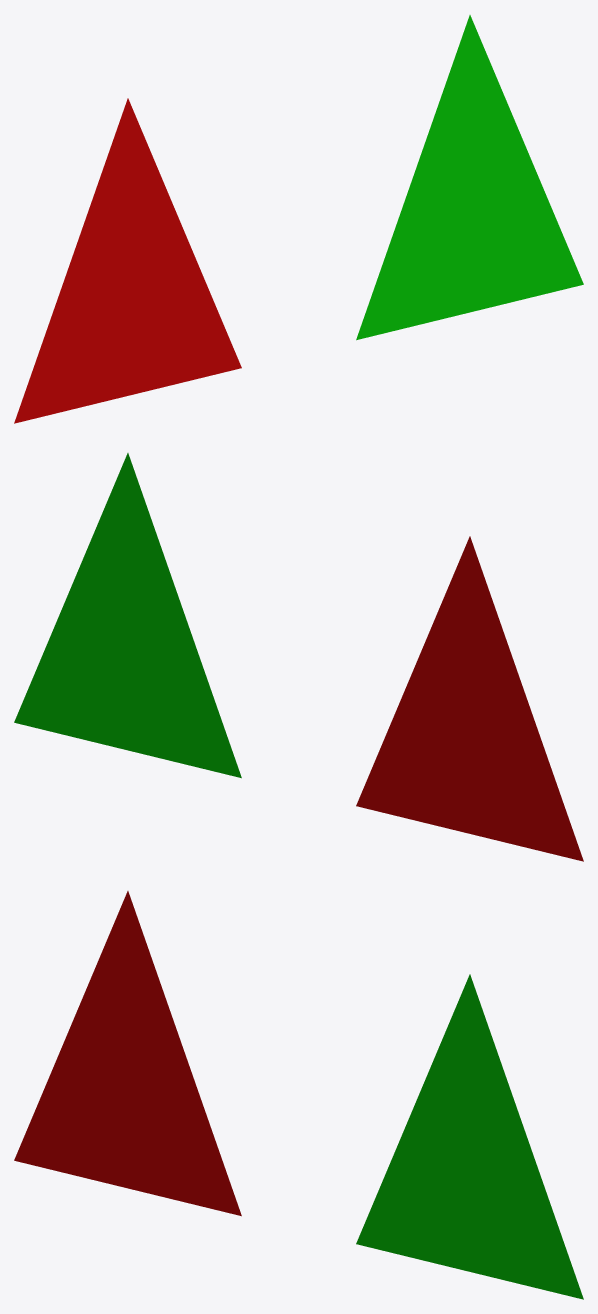
File: two-triangles.gltf
3 renders of one model, top to bottom at view 1: azimuth 30°, elevation 25°; view 2: azimuth 150°, elevation 25°; view 3: azimuth 330°, elevation 25°, orthographic.
Visible parts, largest first — view 1: TwoTriangles; view 2: TwoTriangles; view 3: TwoTriangles.
Part boxes in pixels (x1=…): TwoTriangles: x1=14, y1=15, x2=583, y2=423; TwoTriangles: x1=14, y1=453, x2=583, y2=861; TwoTriangles: x1=14, y1=891, x2=583, y2=1299.
Bounding box in the file's own units: 400 × 200 × 0.
